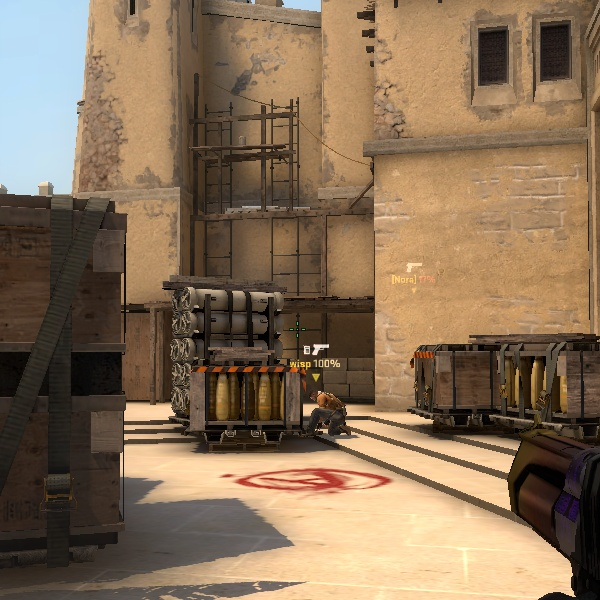t_body: (299, 382, 347, 436)
